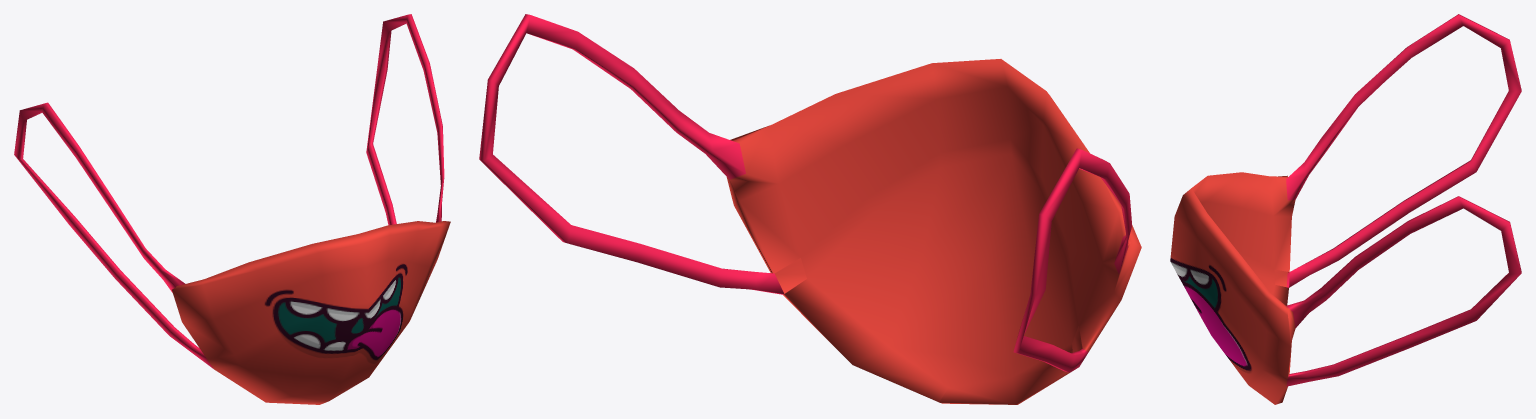
File: protection_mask_funny_mask.glb
3 renders of one model, left to right at view 1: azimuth 30°, elevation 25°; view 2: azimuth 150°, elevation 25°; view 3: azimuth 270°, elevation 25°, orthographic. The views are drawn at different scales.
Parts seen in each view (by area): view 1: protection_mask_funny_mask; view 2: protection_mask_funny_mask; view 3: protection_mask_funny_mask.
Boxes of the visible parts, x1,y1,x2,y2 form: protection_mask_funny_mask: [14, 14, 450, 404]; protection_mask_funny_mask: [479, 14, 1141, 404]; protection_mask_funny_mask: [1170, 14, 1521, 404].
Size of what is drawn, in the model's own units: 1.05 by 0.7637 by 0.8475.
Materials: 1 (1 with a texture image).
